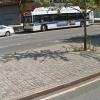buses: (21, 5, 95, 34)
